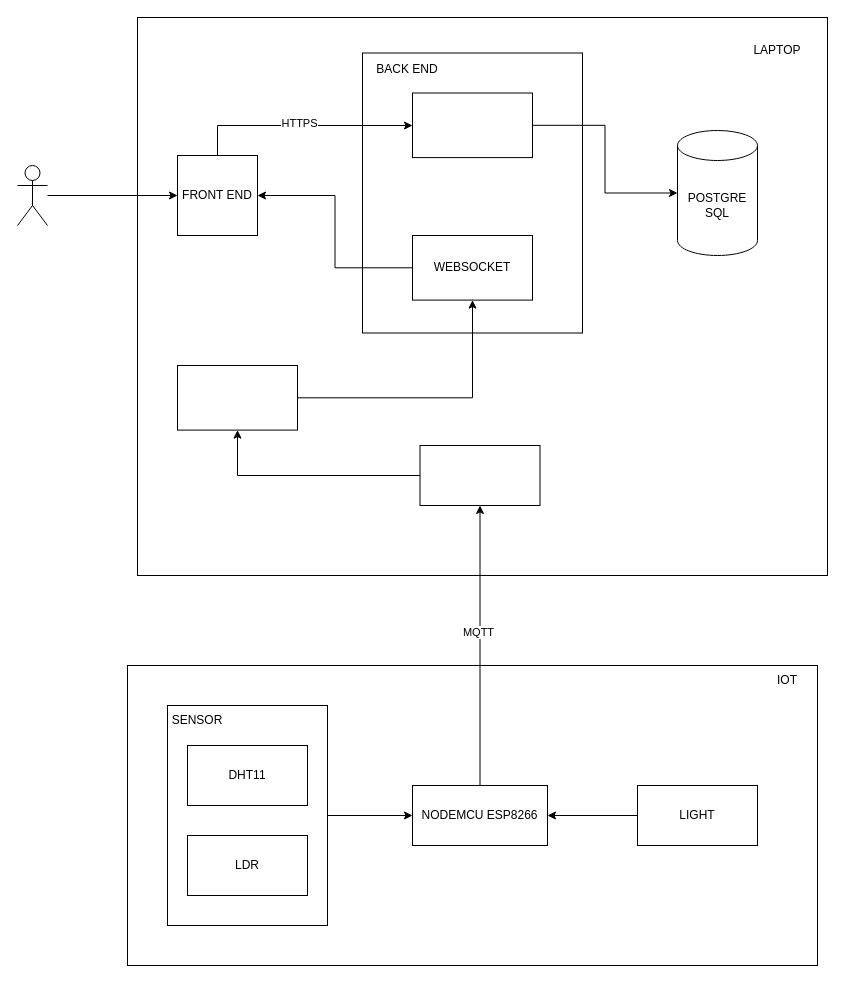
This 845x983 diagram has some shape labels left out. Each missing label, with the centre of its shape:
"Actor" belongs at point (32, 195).
"MQTT BROKER" belongs at point (479, 475).
"MQTT CLIENT" belongs at point (237, 397).
"REST API" belongs at point (472, 125).
